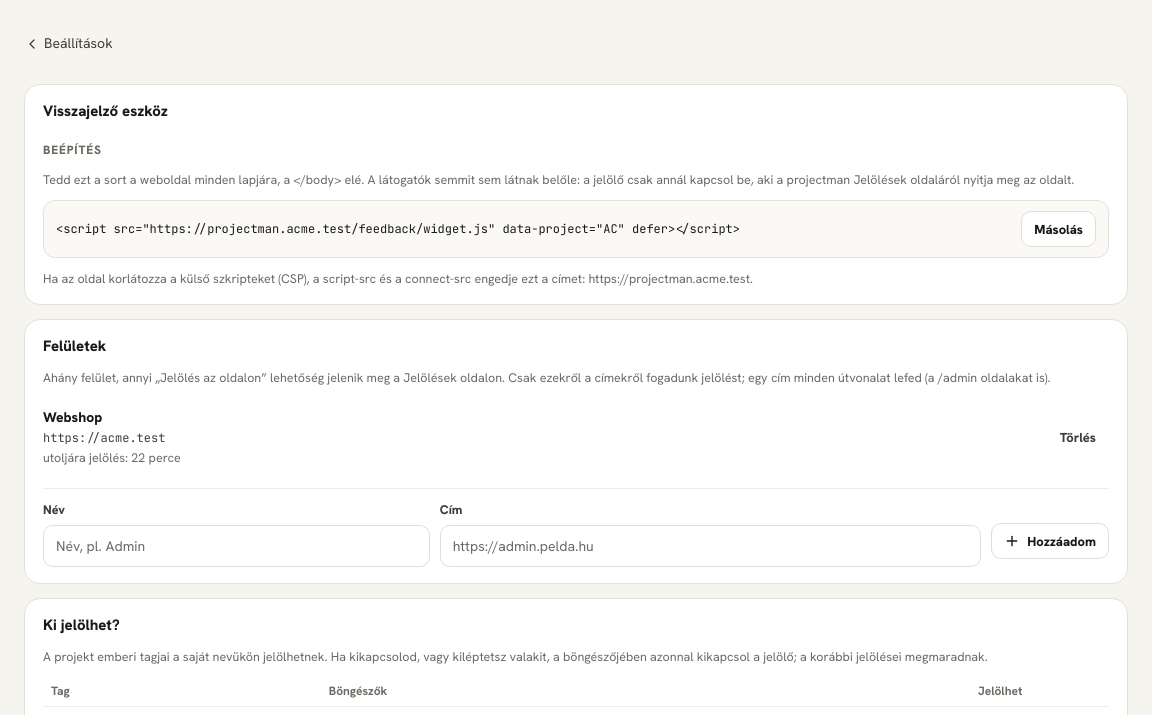
Test: the feedback settings › copies the line to the clipboard
The image size is (1152, 715).
Step 1. Click the button "Másolás" → (1059, 229), box left=1021, top=211, right=1096, bottom=247
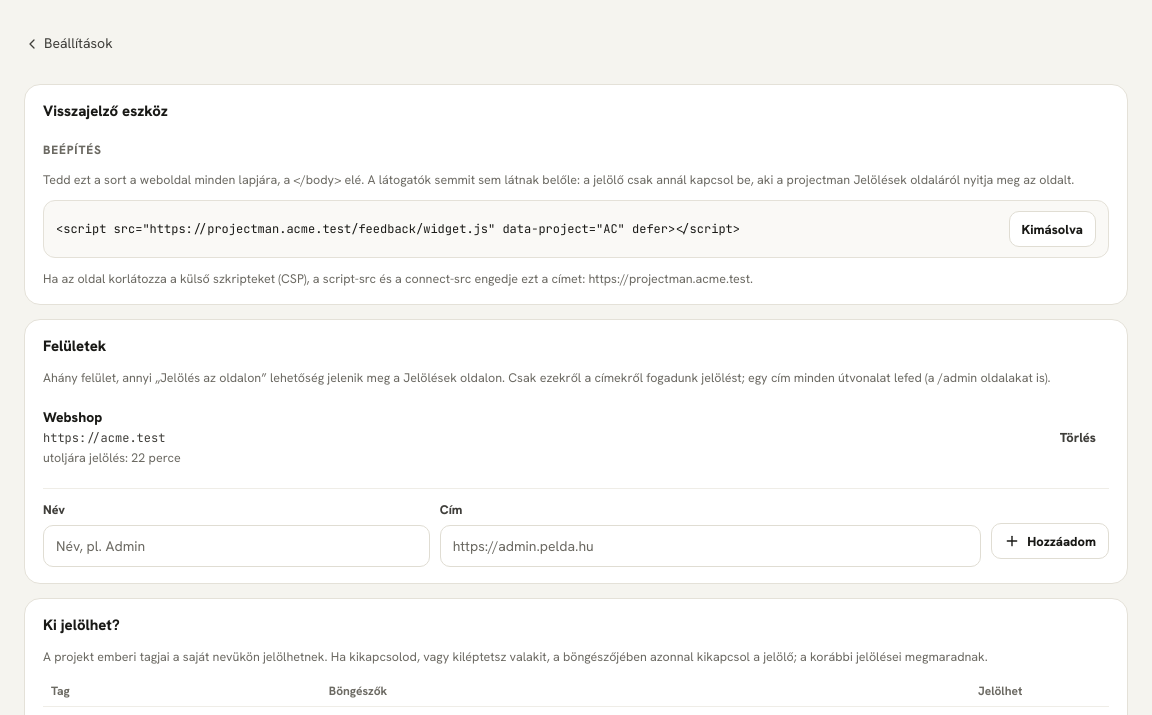
Expected: the button "Kimásolva" is shown, left=1008, top=211, right=1096, bottom=247
